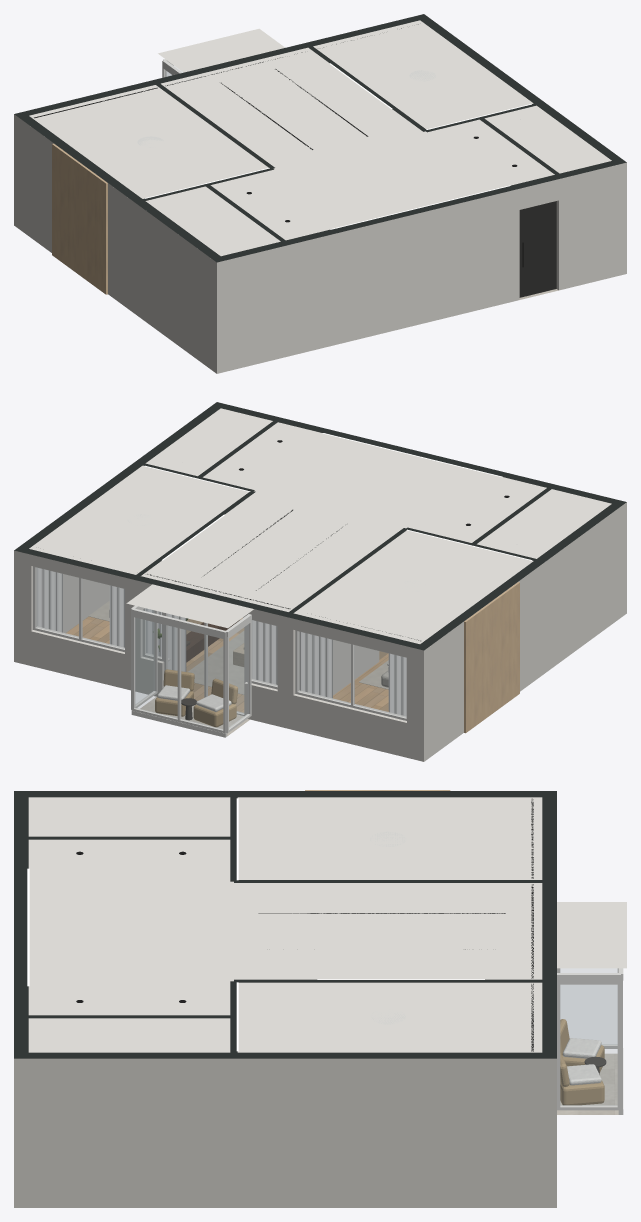
3 views of the same model, one above another, from view 1: azimuth 30°, elevation 25°; view 2: azimuth 150°, elevation 25°; view 3: azimuth 270°, elevation 25° (orthographic). The views are drawn at different scales.
Visible parts, largest first — view 1: Ceiling, Interior, Caps, CeilingEmit; view 2: Ceiling, Interior, Glass, Caps, Curtains, CeilingEmit; view 3: Ceiling, Interior, Caps, Glass, CeilingEmit.
Part boxes in pixels (x1,y1,x2,y2): Ceiling: [29, 20, 611, 256]; Interior: [14, 59, 626, 373]; Caps: [14, 14, 626, 262]; CeilingEmit: [144, 63, 531, 229]; Ceiling: [29, 408, 611, 643]; Interior: [14, 502, 626, 761]; Glass: [36, 568, 406, 729]; Caps: [14, 402, 626, 650]; Curtains: [37, 567, 406, 716]; CeilingEmit: [144, 433, 531, 560]; Ceiling: [28, 797, 626, 1052]; Interior: [14, 790, 623, 1207]; Caps: [14, 791, 556, 1058]; Glass: [560, 968, 617, 1105]; CeilingEmit: [27, 798, 484, 1051].
Size of the model in its own units: 10.53 by 2.73 by 10.14.
47 materials, 18 textured.
